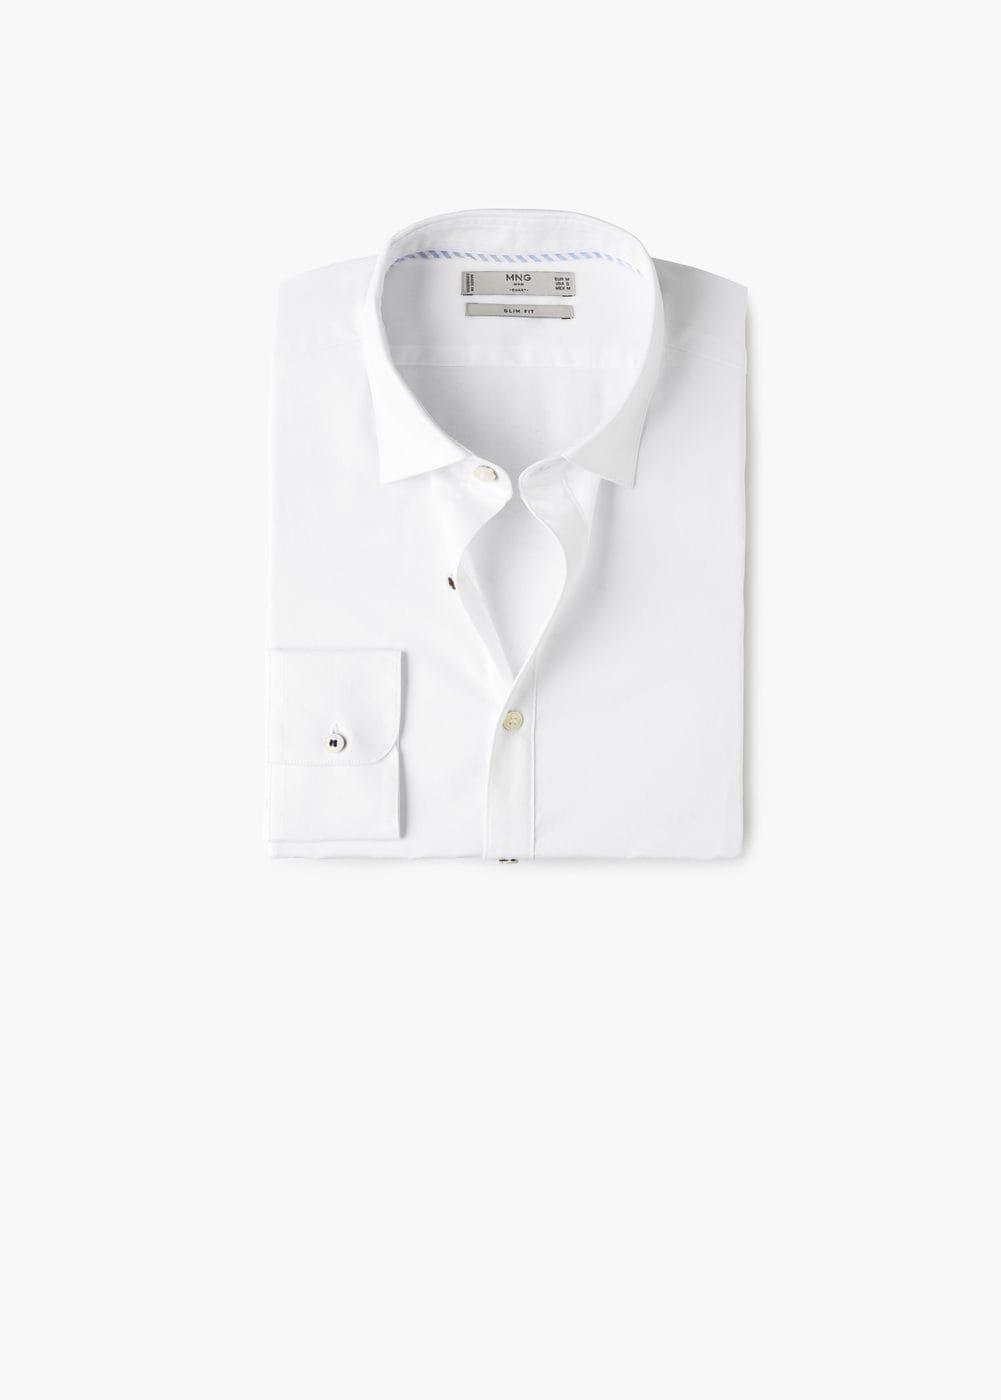teeshirt: (231, 195, 765, 880)
